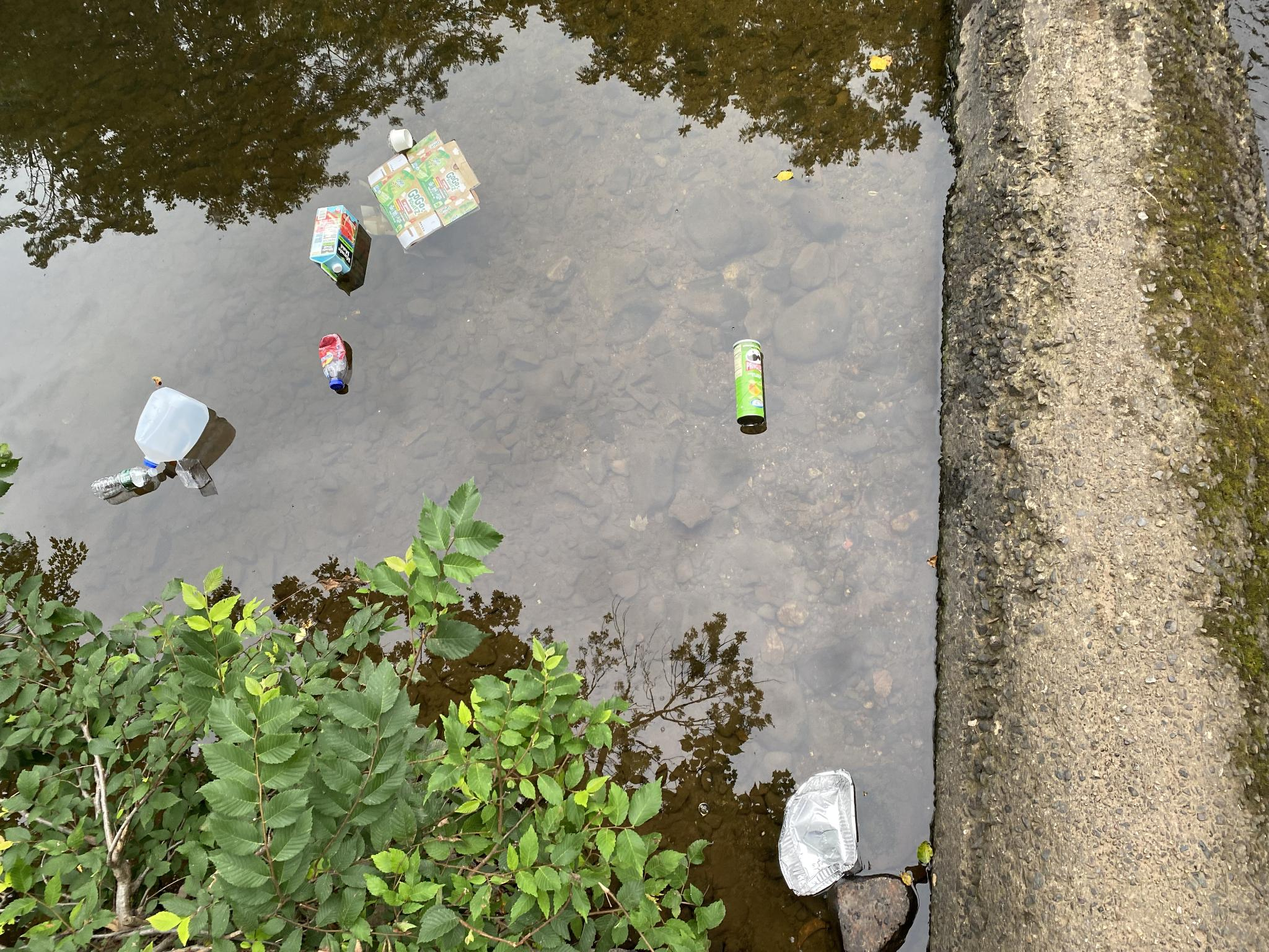cardboard: (128, 785, 256, 904), (203, 906, 284, 952)
metal: (765, 405, 904, 493), (335, 500, 431, 537)
paper: (124, 851, 154, 880)
plastic: (328, 917, 395, 952)
